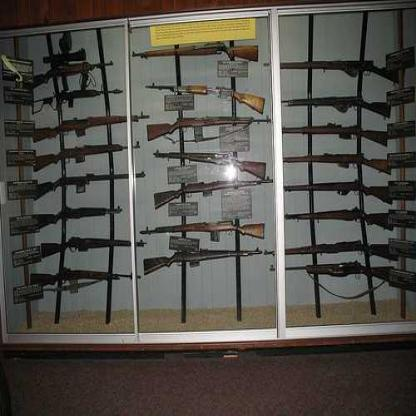rifle: (130, 21, 269, 79), (128, 71, 271, 118), (147, 109, 272, 156), (146, 173, 269, 220)
